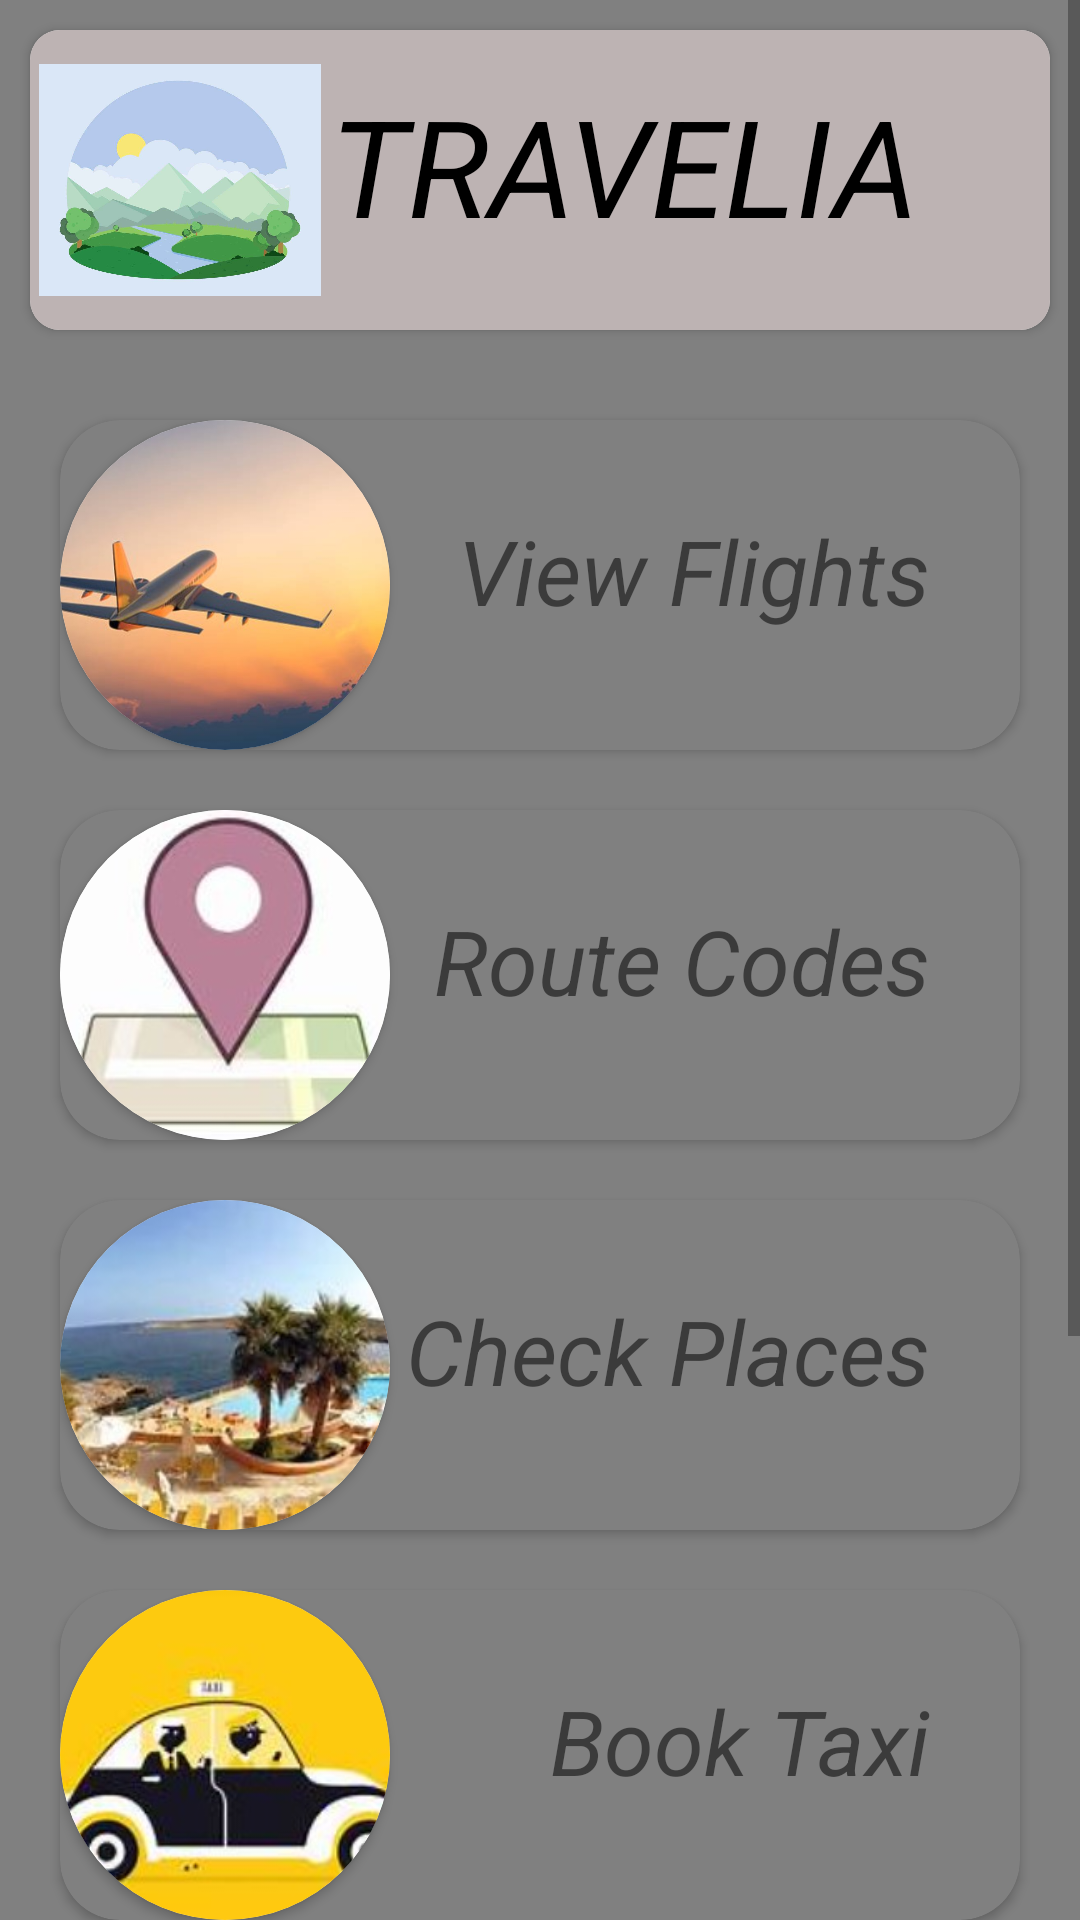

Icon click points for this 1080*1920 phone screenshot, format (x,y):
hotel: (225,1365)
valley: (180,180)
